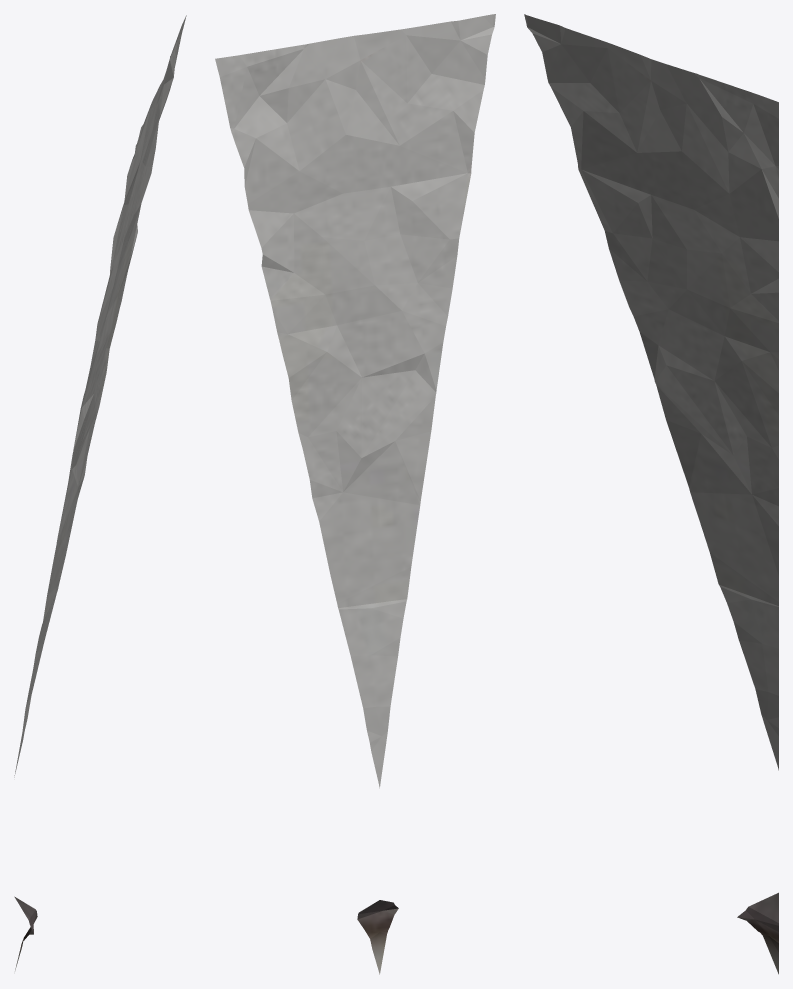
3 views of the same model, side by side, from view 1: azimuth 30°, elevation 25°; view 2: azimuth 150°, elevation 25°; view 3: azimuth 270°, elevation 25° (orthographic). The views are drawn at different scales.
Size of the model in its own units: 0.1627 by 0.8263 by 0.1986.
Materials: 1 (1 with a texture image).
